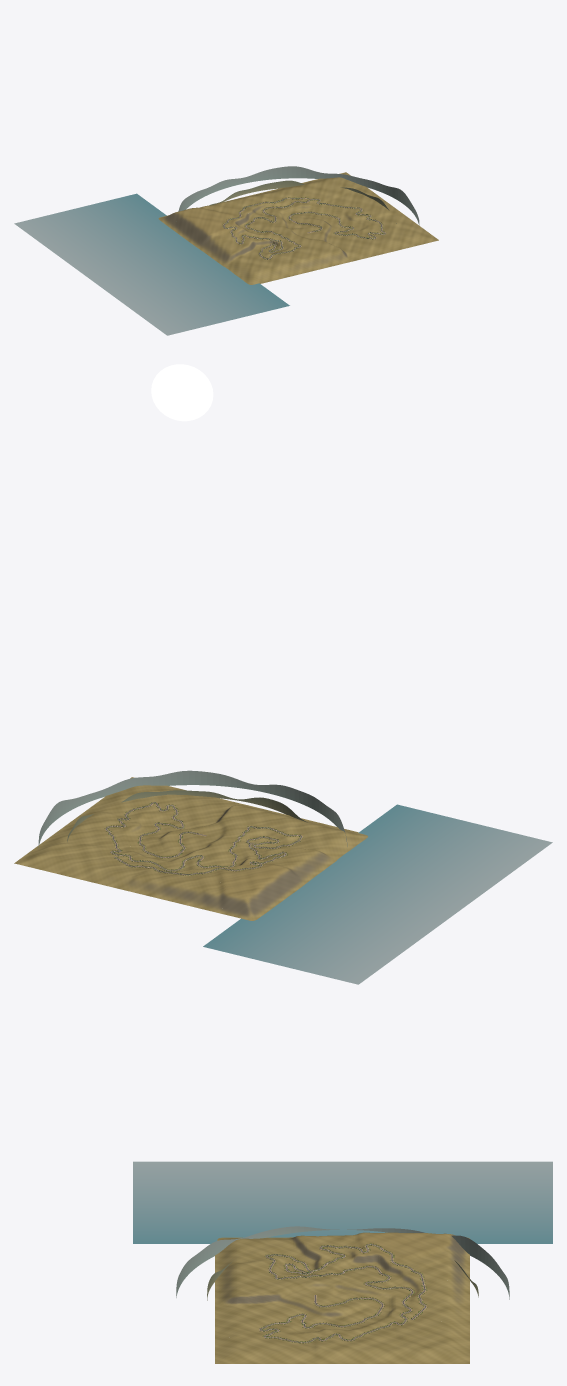
Rendered from adelaide.glb.
3 views of the same model, one above another, from view 1: azimuth 30°, elevation 25°; view 2: azimuth 150°, elevation 25°; view 3: azimuth 270°, elevation 25° (orthographic). The views are drawn at different scales.
Visible parts, largest first — view 1: Land_029, Peaks, Land_023, Land_022, Land_031, Land_009, Land_007, Land_013, Land_012, Land_032, Land_010, Land_033 (+3 smaller); view 2: Land_029, Peaks, Sun, Land_033, Land_023, Land_031, Land_032, Land_013, Land_012, Land_035, Land_007, Land_022 (+4 smaller); view 3: Land_029, Peaks, Land_009, Land_013, Land_012, Land_033, Land_022, Land_007, Land_023, Land_032, Land_035, Land_010 (+16 smaller).
Part boxes in pixels (box(x1,y1,x2,y2)): Land_029: box(14, 193, 289, 335); Peaks: box(176, 166, 419, 225); Land_023: box(224, 252, 301, 284); Land_022: box(278, 246, 350, 273); Land_031: box(164, 216, 236, 247); Land_009: box(367, 220, 438, 248); Land_007: box(342, 230, 404, 261); Land_013: box(312, 172, 360, 209); Land_012: box(332, 185, 388, 212); Land_032: box(158, 207, 248, 222); Land_010: box(356, 208, 411, 225); Land_033: box(199, 198, 257, 213); Land_029: box(203, 804, 552, 984); Peaks: box(38, 770, 347, 847); Sun: box(151, 364, 213, 421); Land_033: box(157, 869, 223, 913); Land_023: box(277, 819, 367, 859); Land_031: box(237, 863, 304, 915); Land_032: box(203, 866, 261, 920); Land_013: box(14, 841, 132, 868); Land_012: box(35, 823, 127, 848); Land_035: box(73, 859, 148, 890); Land_007: box(160, 788, 243, 821); Land_022: box(228, 804, 305, 835); Land_029: box(133, 1161, 552, 1258); Peaks: box(176, 1226, 509, 1300); Land_009: box(215, 1333, 299, 1363); Land_013: box(367, 1316, 469, 1363); Land_012: box(348, 1326, 424, 1363); Land_033: box(401, 1247, 469, 1288); Land_022: box(215, 1261, 284, 1304); Land_007: box(215, 1299, 295, 1340); Land_023: box(215, 1237, 291, 1272); Land_032: box(379, 1233, 469, 1272); Land_035: box(411, 1298, 469, 1332); Land_010: box(289, 1330, 335, 1363).
Size of what is drawn, in the model's own units: 6859 by 5009 by 6653.
